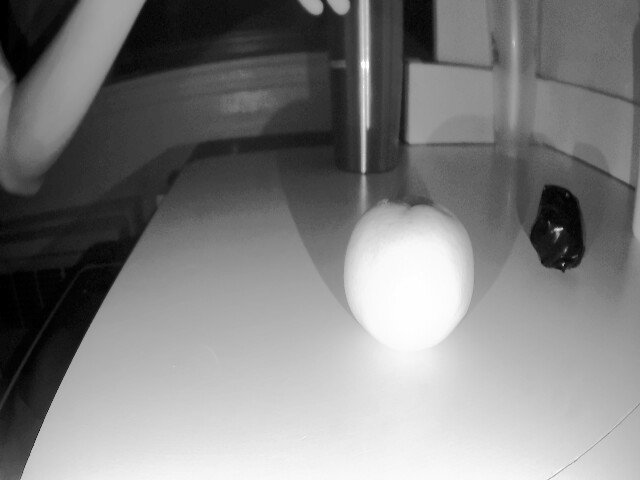silver: (513, 181, 608, 282)
